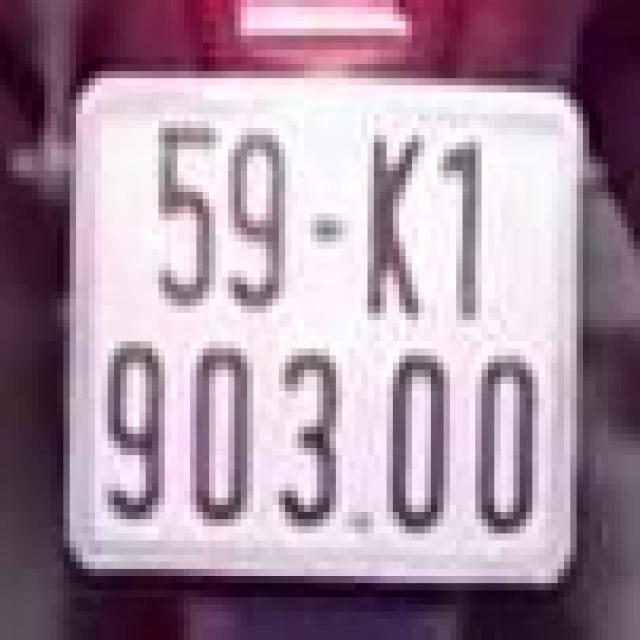0: (377, 334, 466, 555), (472, 342, 542, 540), (177, 345, 241, 523)
1: (440, 121, 504, 334)
3: (263, 327, 339, 519)
5: (139, 103, 222, 317)
9: (225, 110, 301, 310), (95, 327, 171, 526)
K: (345, 114, 434, 320)
